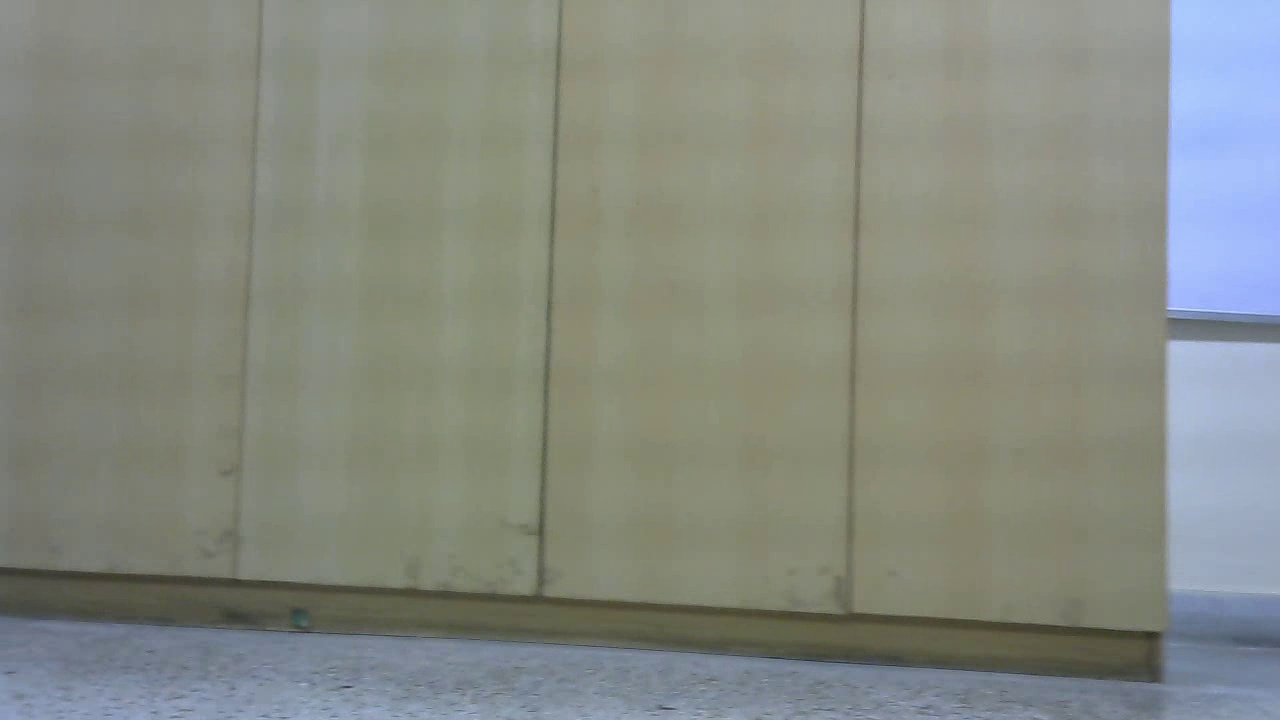chair: (3, 25, 222, 566)
